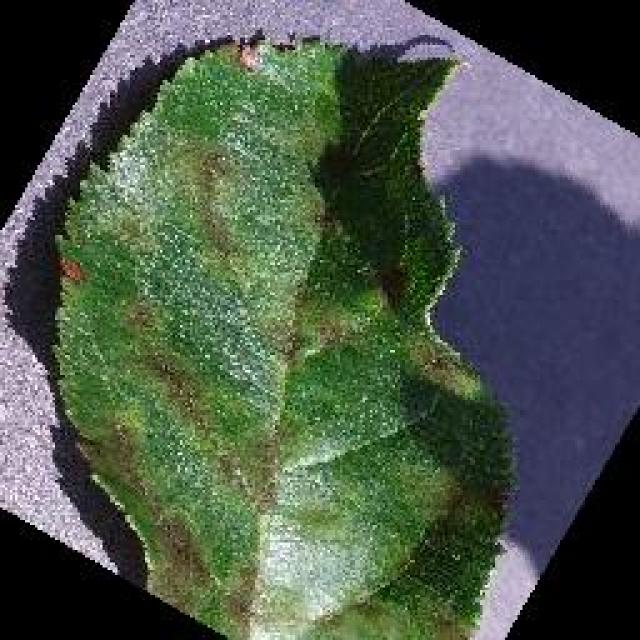apple scab disease: (48, 30, 520, 638)
